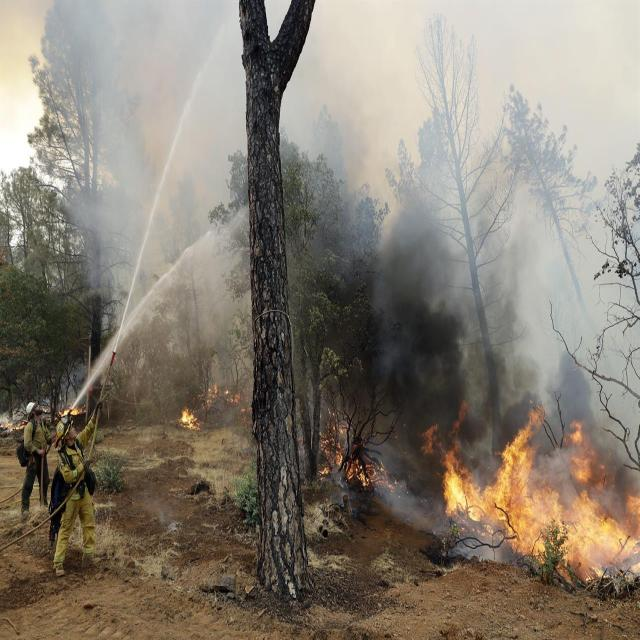Fire: (318, 416, 640, 590), (175, 387, 251, 434)
Smoke: (33, 0, 640, 395)
